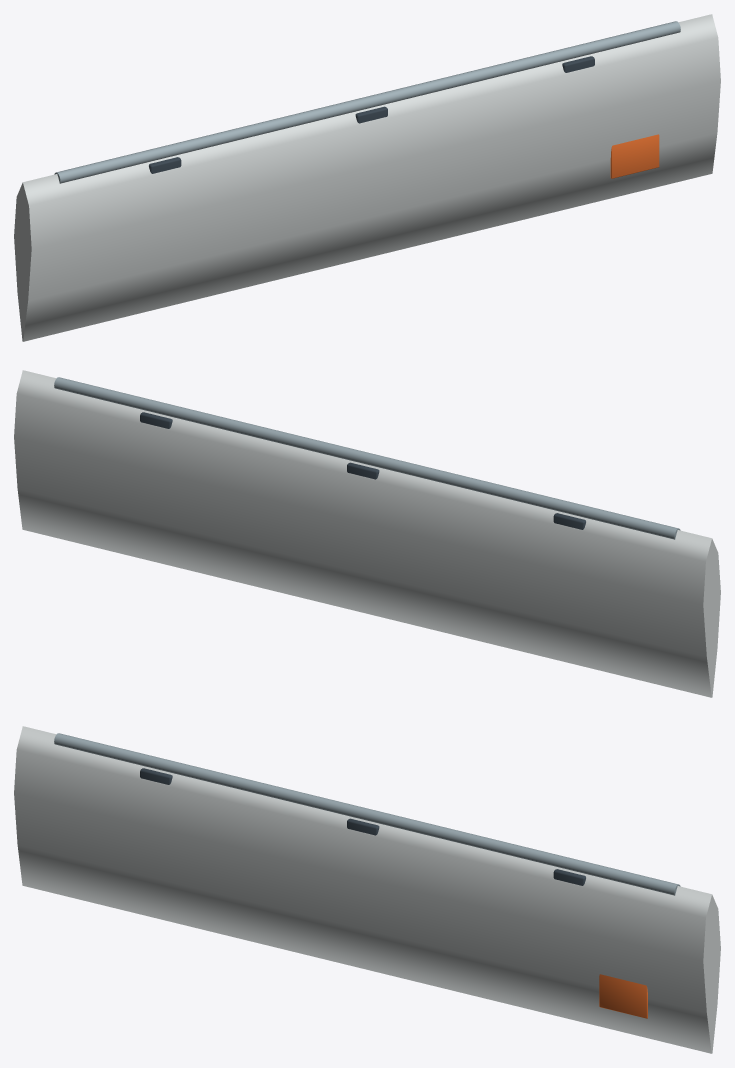
The model's file is transportElevator.glb.
3 views of the same model, one above another, from view 1: azimuth 30°, elevation 25°; view 2: azimuth 150°, elevation 25°; view 3: azimuth 330°, elevation 25° (orthographic).
Visible parts, largest first — view 1: transportElevator; view 2: transportElevator; view 3: transportElevator.
Part boxes in pixels (box(x1,y1,x2,y2)): transportElevator: box(14, 14, 720, 341); transportElevator: box(14, 370, 720, 697); transportElevator: box(14, 726, 720, 1053).
Size of the model in its own units: 9 by 2 by 0.4.
